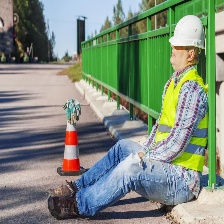helmet: (167, 13, 207, 56)
person: (45, 10, 214, 217)
vest: (156, 68, 207, 173)
